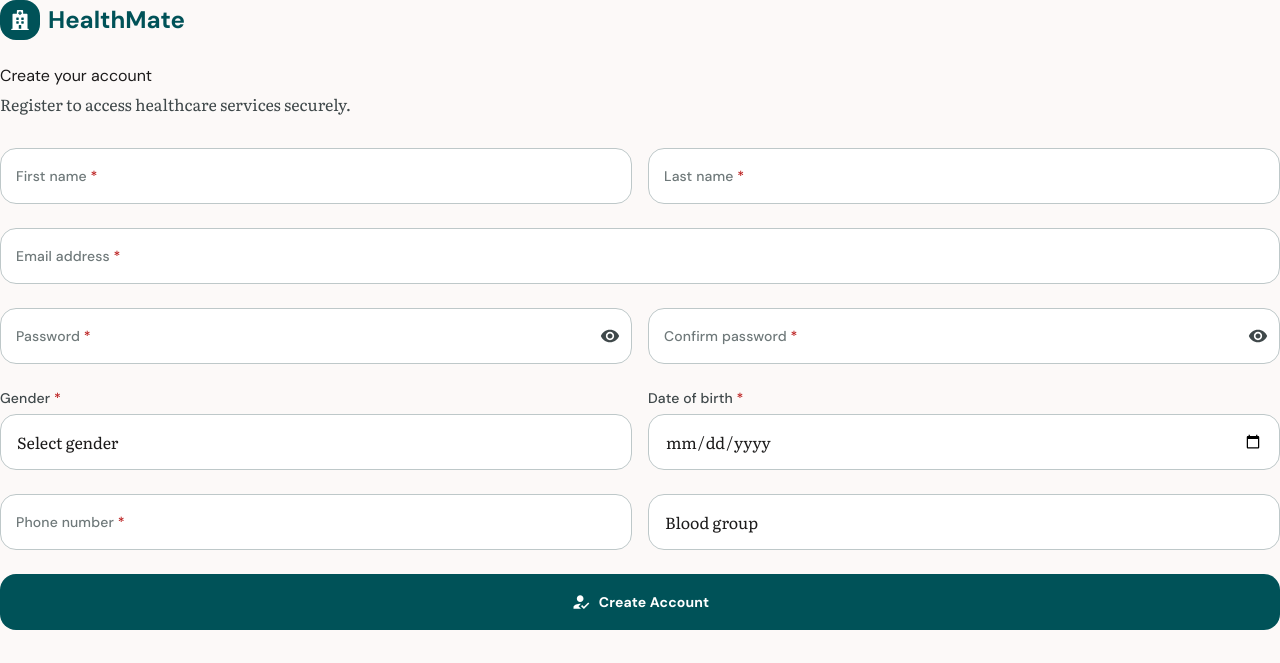
it: RegistrationForm › should show validation errors when submitting empty form
Click the button "Create Account": (640, 602) top-left (0, 574), bottom-right (1279, 630)
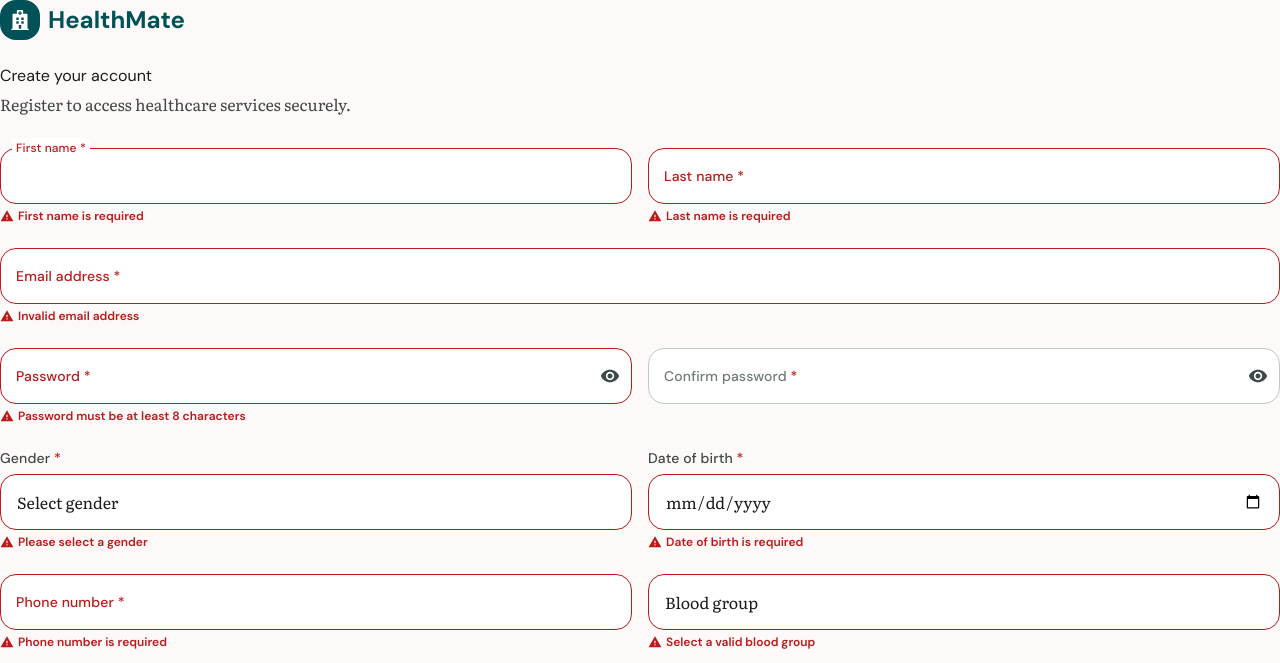
Expected: the message "First name is required" is shown, top-left (0, 208), bottom-right (144, 224)
